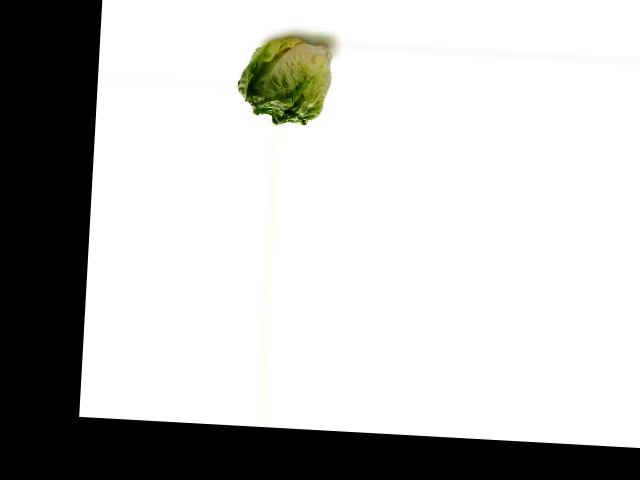lettuce: (230, 35, 339, 130)
